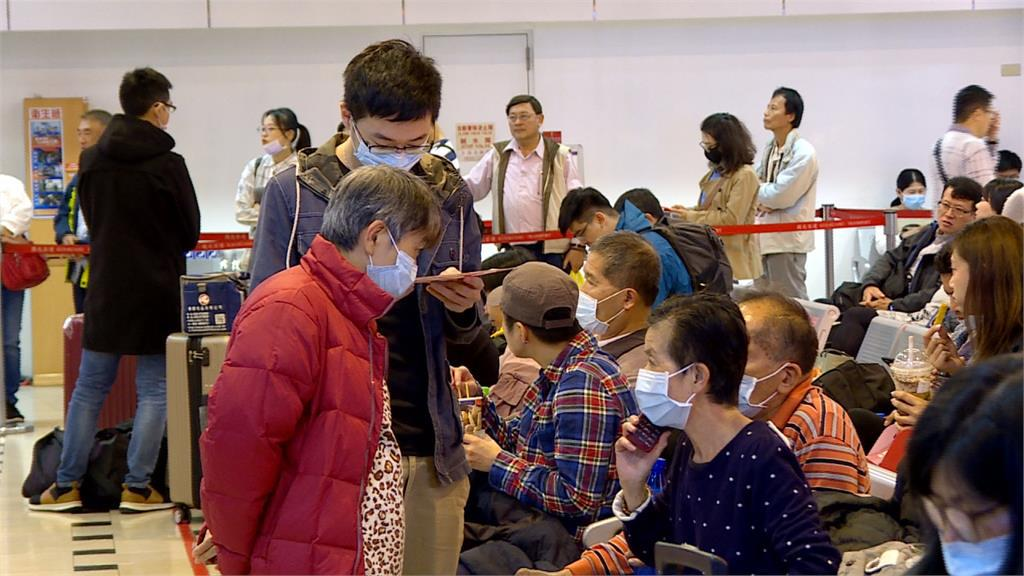mask: (631, 344, 693, 434), (366, 235, 424, 303), (351, 130, 432, 171), (573, 268, 613, 344), (699, 138, 725, 165), (901, 185, 927, 209)
none: (948, 256, 976, 313), (937, 193, 976, 233), (572, 211, 611, 247), (973, 194, 1005, 223), (507, 109, 535, 142), (762, 99, 782, 131), (76, 127, 97, 148)
poor: (256, 123, 287, 155)
